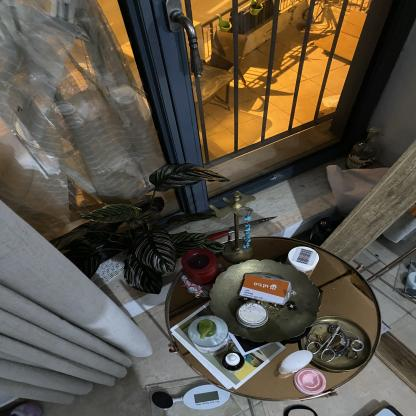Knife: (184, 185, 290, 259)
